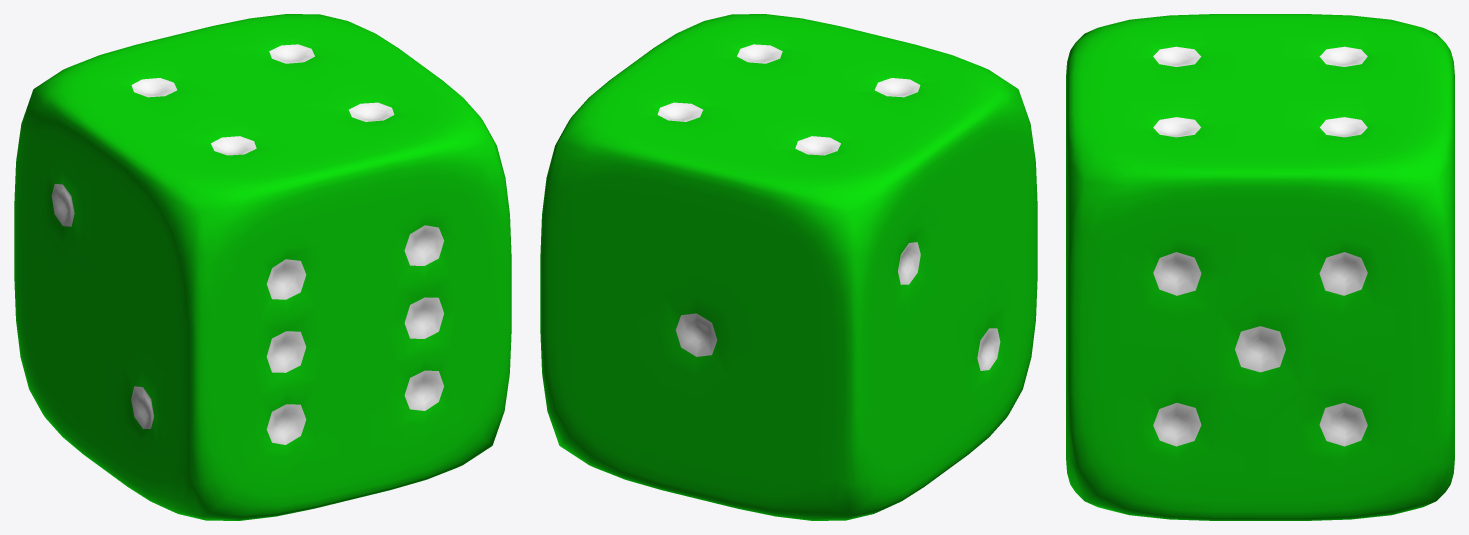
File: dice.fbx
3 views of the same model, side by side, from view 1: azimuth 30°, elevation 25°; view 2: azimuth 150°, elevation 25°; view 3: azimuth 270°, elevation 25° (orthographic). The views are drawn at different scales.
Parts seen in each view (by area): view 1: Box001; view 2: Box001; view 3: Box001.
Boxes of the visible parts, x1=… form: Box001: x1=14, y1=14, x2=511, y2=520; Box001: x1=540, y1=14, x2=1037, y2=520; Box001: x1=1066, y1=14, x2=1454, y2=520.
Bounding box in the file's own units: 1.77 × 1.77 × 1.77.
